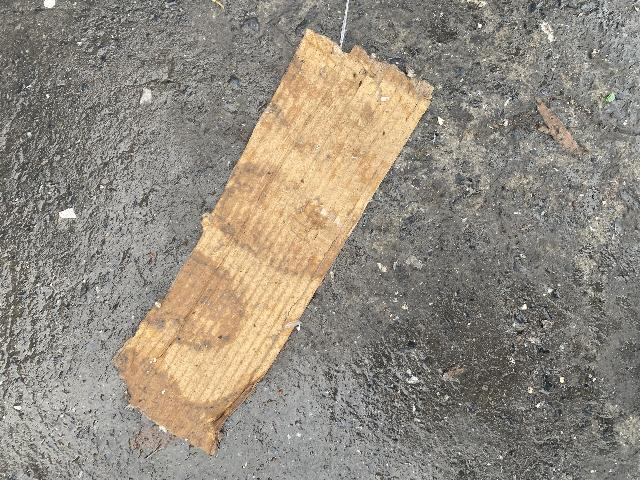Kagit: (116, 24, 435, 454)
